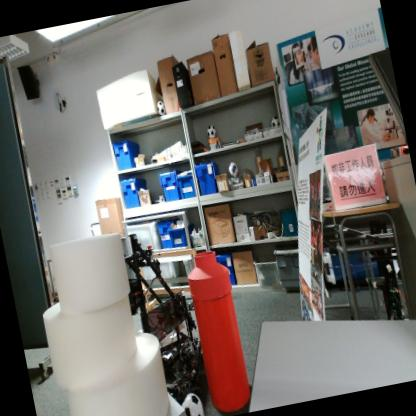ball: (181, 390, 205, 416), (226, 160, 239, 178), (154, 100, 166, 116), (206, 123, 218, 139), (269, 113, 280, 128)
